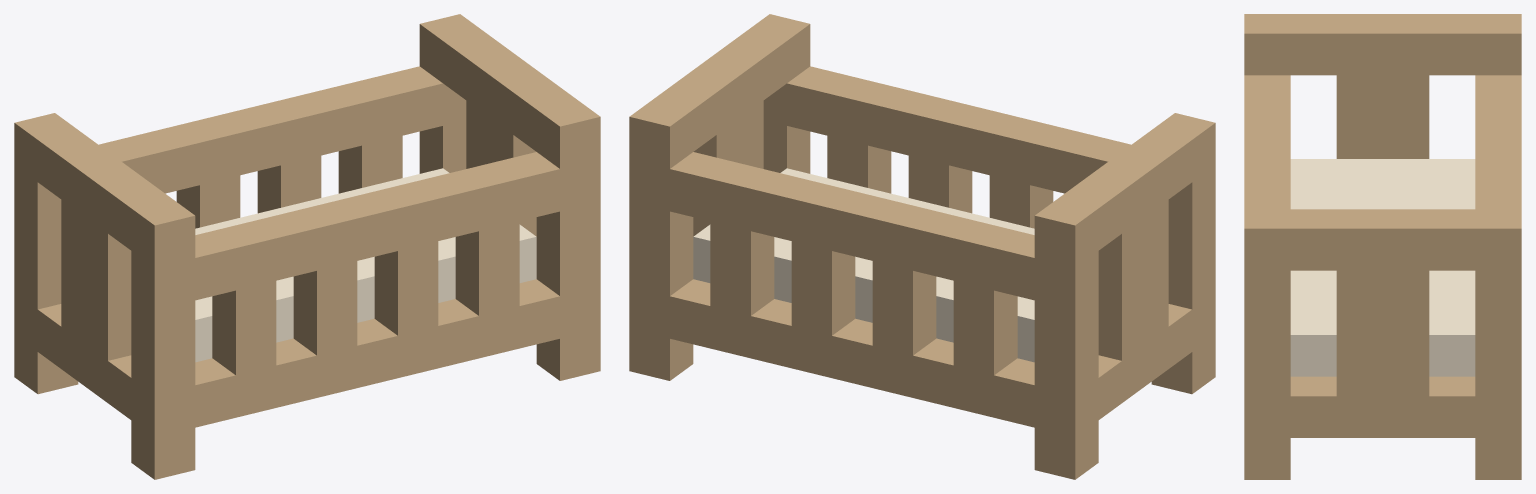
Rendered from crib.obj.
The picture shows the model from 3 angles, left to right: view 1: azimuth 30°, elevation 25°; view 2: azimuth 150°, elevation 25°; view 3: azimuth 270°, elevation 25°; orthographic projection.
Visible parts, largest first — view 1: crib; view 2: crib; view 3: crib.
Part boxes in pixels (<box>): crib: <box>14,14,600,479</box>; crib: <box>629,14,1215,479</box>; crib: <box>1244,14,1521,479</box>.
Size of the model in its own units: 11 by 6 by 6.
